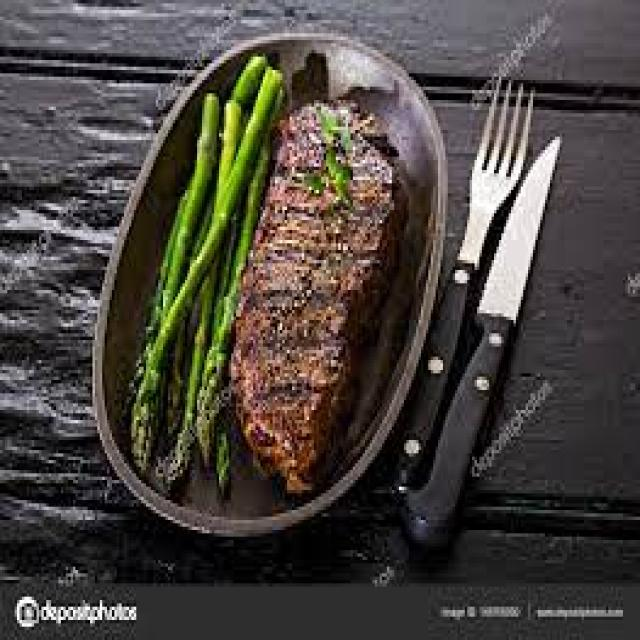Carne: (226, 93, 409, 497)
